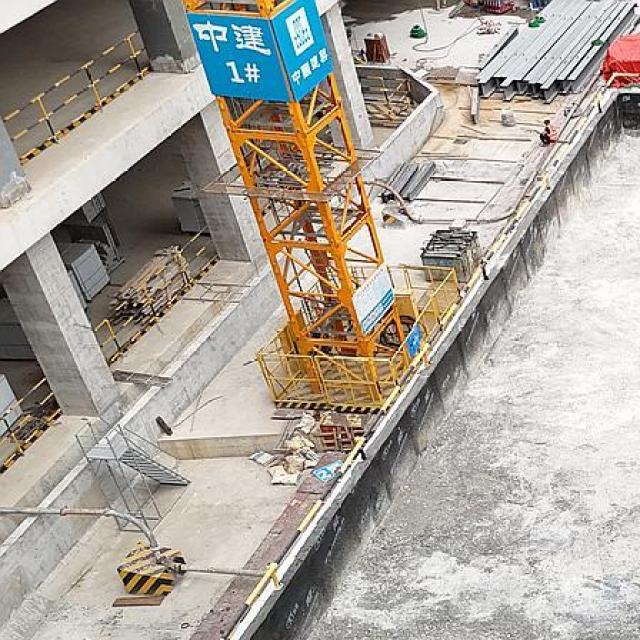edge_guardrail: (218, 69, 640, 639), (1, 29, 146, 145), (92, 225, 212, 352), (0, 375, 54, 450)
